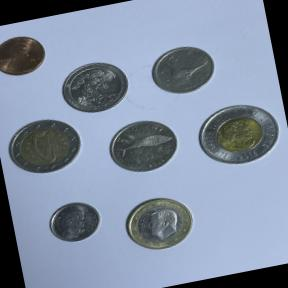1 Euro-B: (116, 186, 200, 258)
2 Euro-B: (0, 110, 89, 182)
Canada-10cent-B: (41, 192, 108, 252)
Canada-2Dollar-B: (189, 94, 288, 178)
Croatia-2Kune-B: (102, 110, 186, 180)
US-1cent-B: (0, 29, 51, 83)
US-25cent-B: (54, 54, 134, 119)
